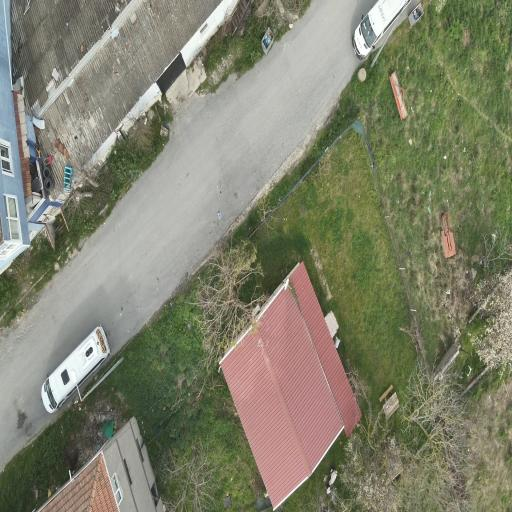car: (42, 325, 110, 413), (352, 0, 410, 59)
